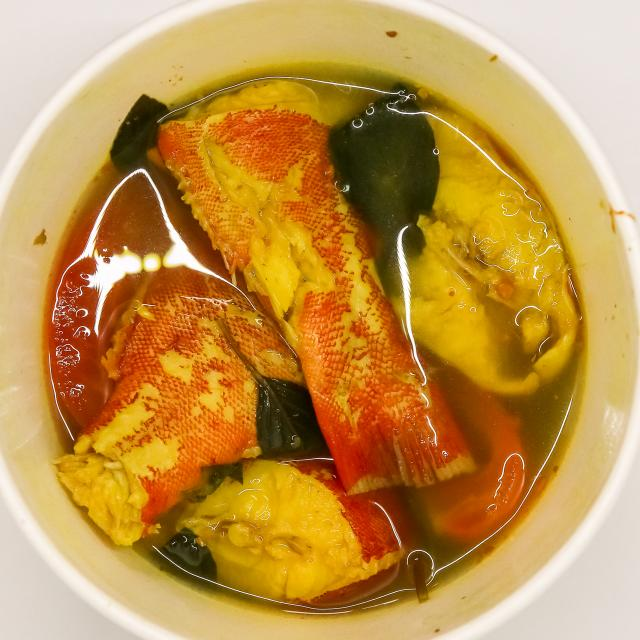Gulai-Ikan-Mas: (61, 73, 582, 602)
